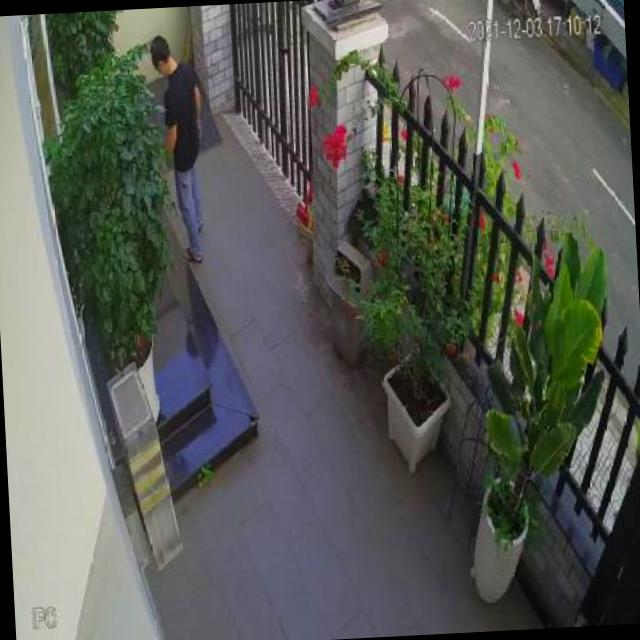Person: (148, 32, 212, 268)
